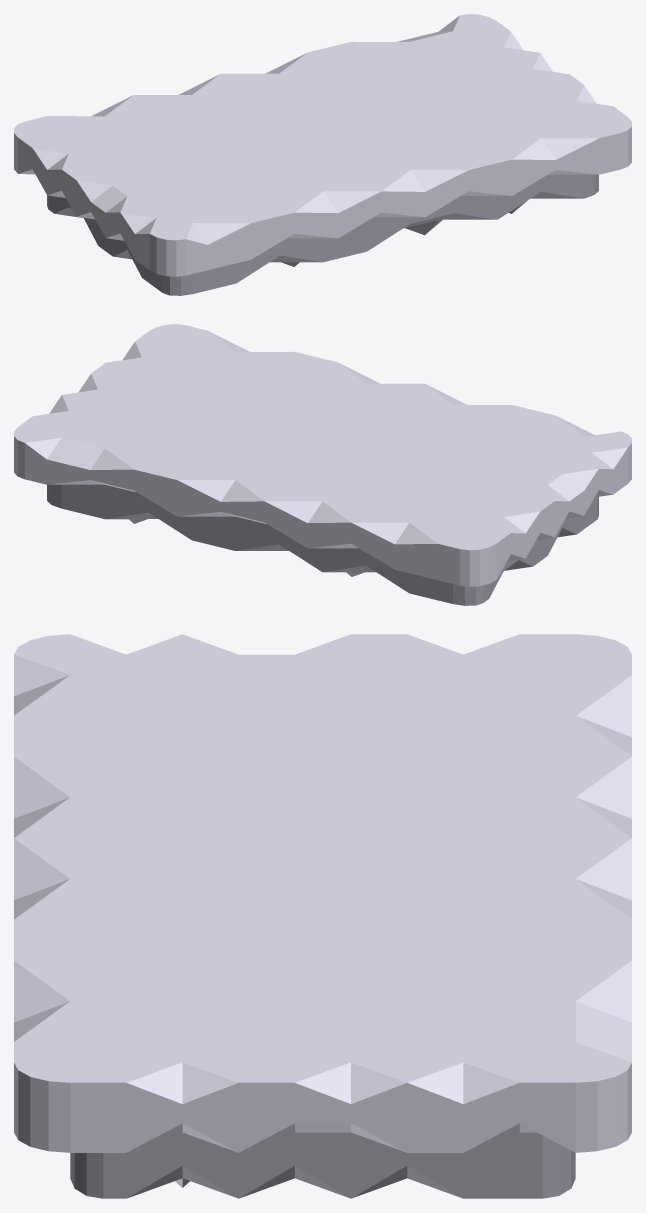
The model's file is Floor_Break_Silver.obj.
3 renders of one model, top to bottom at view 1: azimuth 30°, elevation 25°; view 2: azimuth 150°, elevation 25°; view 3: azimuth 270°, elevation 25°, orthographic. The views are drawn at different scales.
Parts seen in each view (by area): view 1: Cube; view 2: Cube; view 3: Cube.
Boxes of the visible parts, <box> form: Cube: <box>14,14,631,295</box>; Cube: <box>14,324,631,605</box>; Cube: <box>14,634,631,1198</box>.
Bounding box in the file's own units: 13.85 × 2.69 × 8.07.
Materials: 1 (1 with a texture image).
